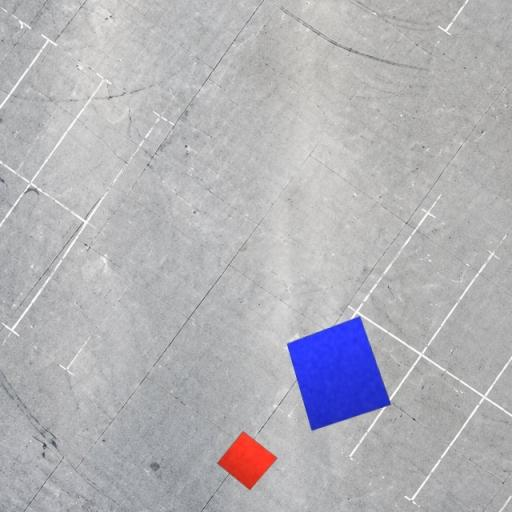BLUE_SQUARE: (286, 315, 392, 432)
RED_SQUARE: (217, 430, 278, 490)
